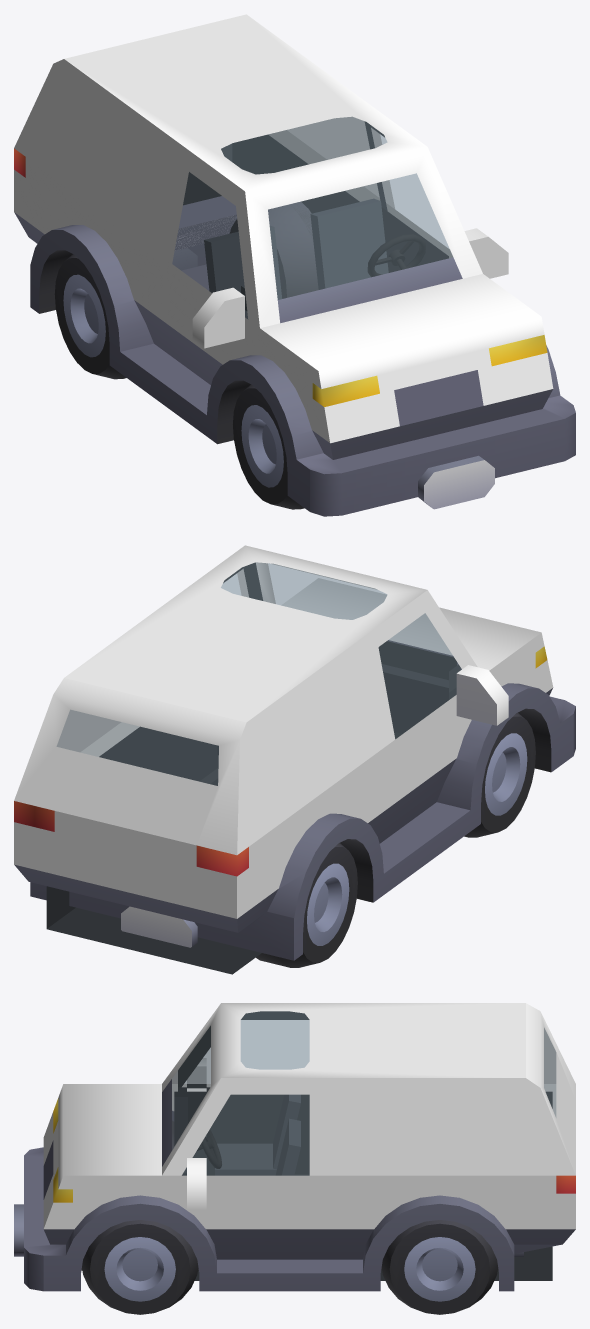
File: luxury.glb
3 renders of one model, top to bottom at view 1: azimuth 30°, elevation 25°; view 2: azimuth 150°, elevation 25°; view 3: azimuth 270°, elevation 25°, orthographic. The views are drawn at different scales.
Visible parts, largest first — view 1: paint, body, glass, interior, door-front-right-paint, door-front-right-glass, wheel-back-right, wheel-front-right, wheel-back-left, door-front-left-glass, door-front-right-panel, steering-wheel (+2 smaller); view 2: paint, body, interior, glass, door-front-right-paint, door-front-right-glass, wheel-back-right, wheel-front-right, door-front-right-panel, door-front-left-trim; view 3: paint, body, door-front-left-paint, interior, wheel-back-left, wheel-front-left, door-front-left-glass, glass, door-front-left-panel, door-front-right-glass, door-front-right-trim, steering-wheel.
Boxes of the visible parts, left/top/right/bottom form: paint: left=14, top=14, right=553, bottom=443; body: left=14, top=148, right=575, bottom=516; glass: left=221, top=117, right=452, bottom=299; interior: left=183, top=134, right=439, bottom=318; door-front-right-paint: left=166, top=148, right=255, bottom=364; door-front-right-glass: left=172, top=172, right=247, bottom=318; wheel-back-right: left=54, top=254, right=126, bottom=379; wheel-front-right: left=233, top=384, right=304, bottom=509; wheel-back-left: left=230, top=201, right=318, bottom=298; door-front-left-glass: left=381, top=135, right=448, bottom=247; door-front-right-panel: left=146, top=323, right=229, bottom=423; steering-wheel: left=367, top=234, right=425, bottom=277; paint: left=14, top=545, right=553, bottom=918; body: left=14, top=640, right=575, bottom=960; interior: left=46, top=641, right=456, bottom=974; glass: left=57, top=562, right=451, bottom=785; door-front-right-paint: left=369, top=590, right=508, bottom=807; door-front-right-glass: left=379, top=613, right=461, bottom=738; wheel-back-right: left=256, top=843, right=357, bottom=967; wheel-front-right: left=464, top=712, right=535, bottom=837; door-front-right-panel: left=378, top=724, right=492, bottom=858; door-front-left-trim: left=200, top=562, right=262, bottom=783; paint: left=43, top=1003, right=575, bottom=1229; body: left=14, top=1079, right=575, bottom=1291; door-front-left-paint: left=178, top=1078, right=319, bottom=1229; interior: left=174, top=1091, right=552, bottom=1280; wheel-back-left: left=381, top=1220, right=497, bottom=1314; wheel-front-left: left=82, top=1220, right=198, bottom=1314; door-front-left-glass: left=182, top=1095, right=309, bottom=1175; glass: left=172, top=1011, right=555, bottom=1149; door-front-left-panel: left=178, top=1213, right=319, bottom=1276; door-front-right-glass: left=184, top=1020, right=309, bottom=1083; door-front-right-trim: left=178, top=1011, right=309, bottom=1175; steering-wheel: left=197, top=1129, right=221, bottom=1168.
Size of the model in its own units: 2.4 by 2.08 by 4.56.
Materials: 4 (1 with a texture image).
